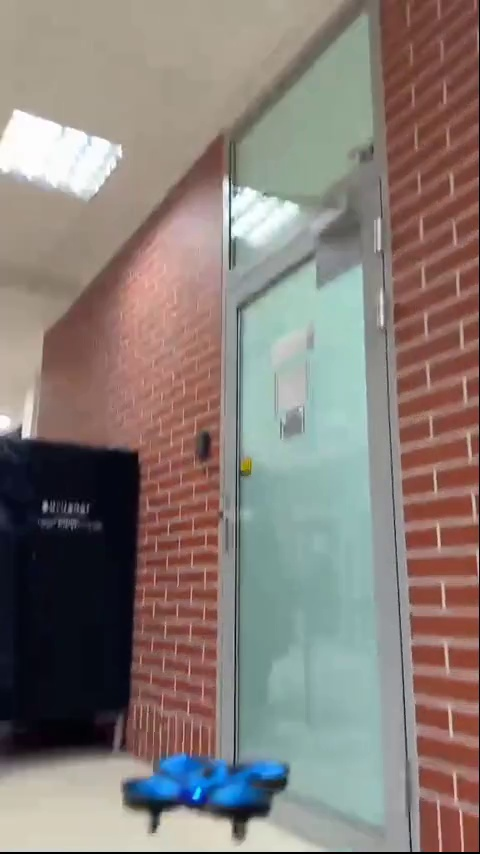drone: (123, 752, 303, 793)
